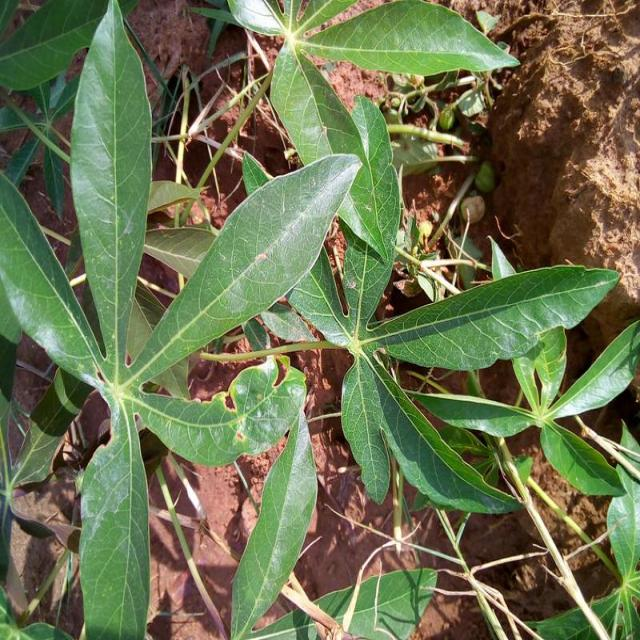cassava leaf: (123, 150, 363, 390), (68, 0, 153, 382), (228, 407, 318, 638)
